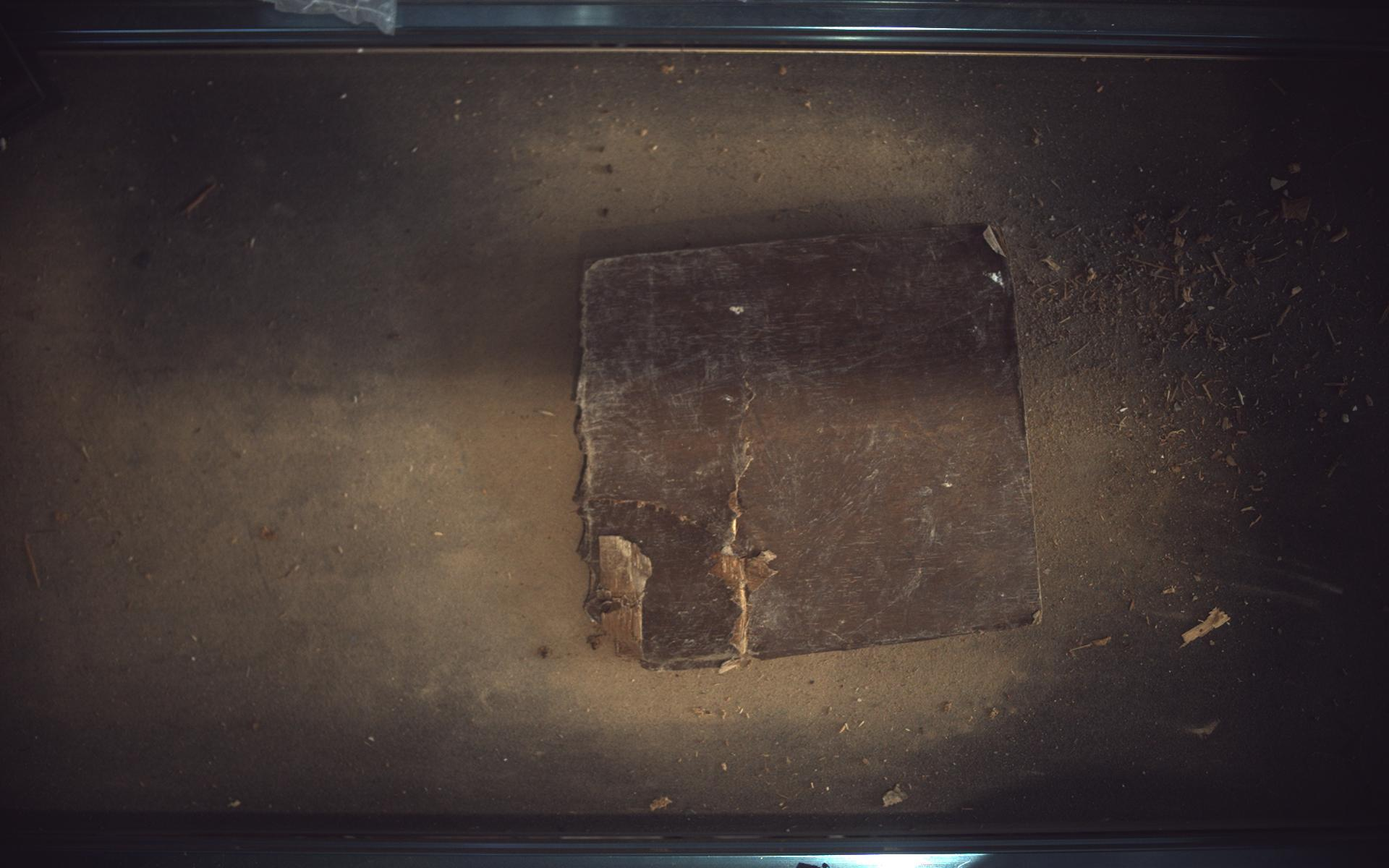wood: (577, 224, 1042, 670)
